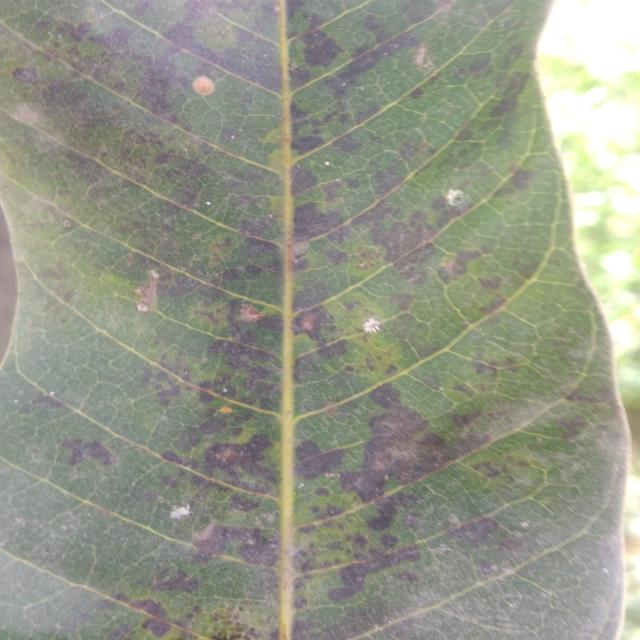Anthracnose: (210, 450, 250, 467)
Powdery Mildew: (443, 186, 471, 206), (171, 508, 198, 522), (359, 318, 378, 332), (323, 160, 335, 168)
black die: (386, 433, 424, 474), (305, 40, 337, 62), (297, 207, 320, 233)
